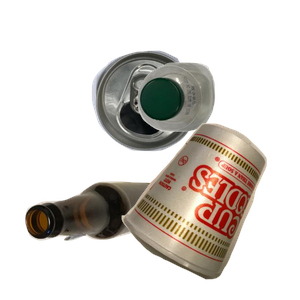glass: (23, 179, 183, 300)
metal: (89, 48, 276, 192)
plastic: (135, 60, 300, 184)
trash: (119, 121, 300, 300)
